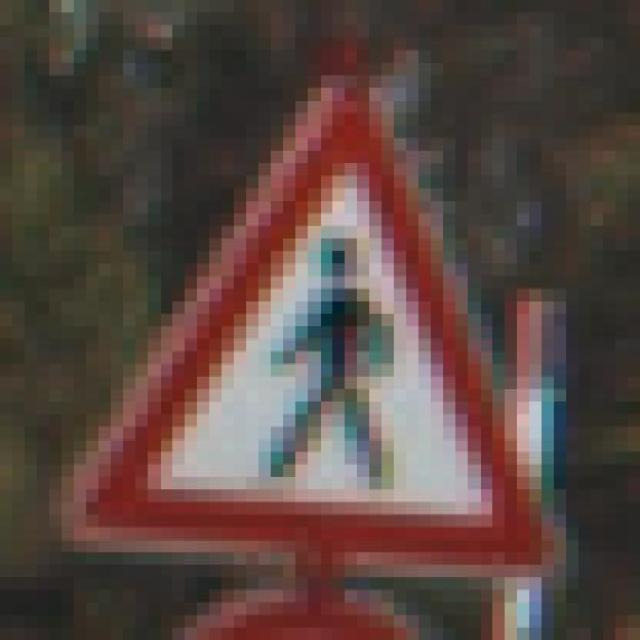Pedestrian Crossing: (61, 25, 578, 578)
